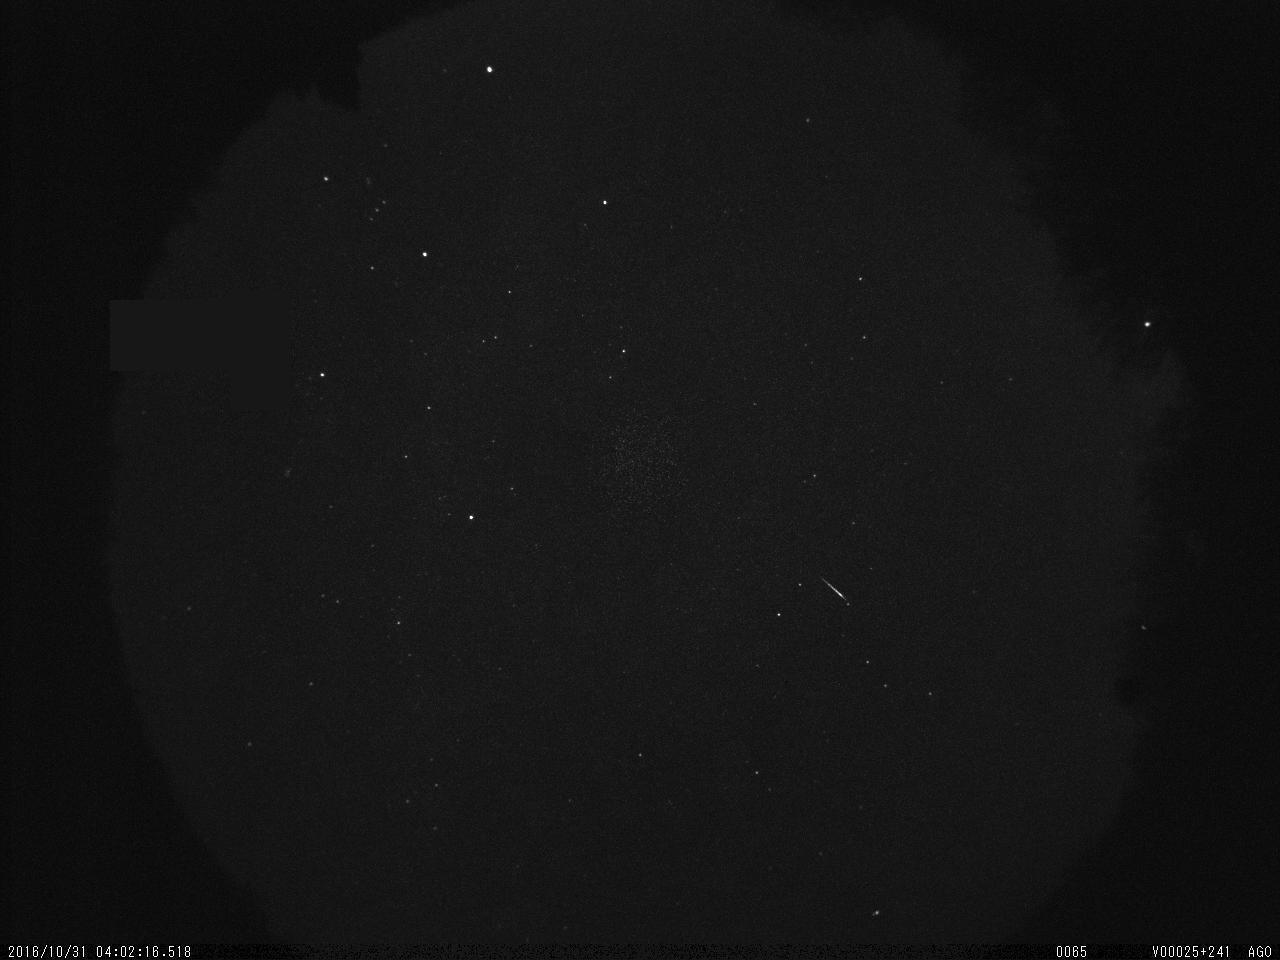meteor: (813, 569, 851, 607)
